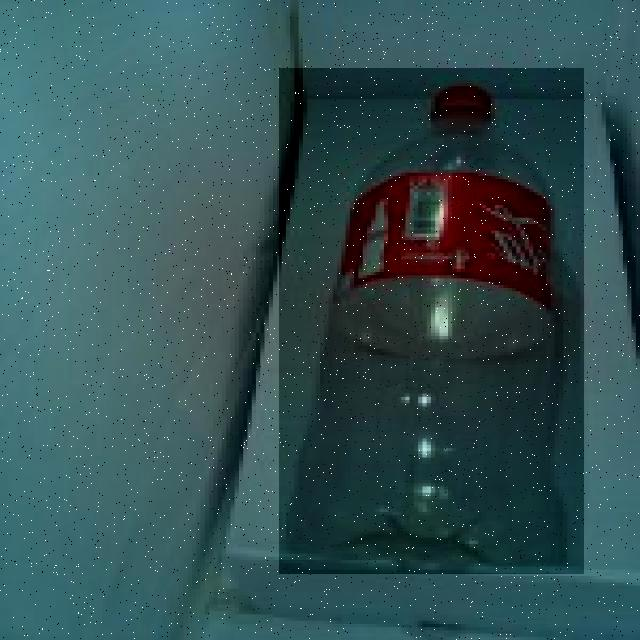bottle: (279, 68, 584, 574)
cap: (425, 86, 497, 126)
label: (333, 185, 561, 312)
